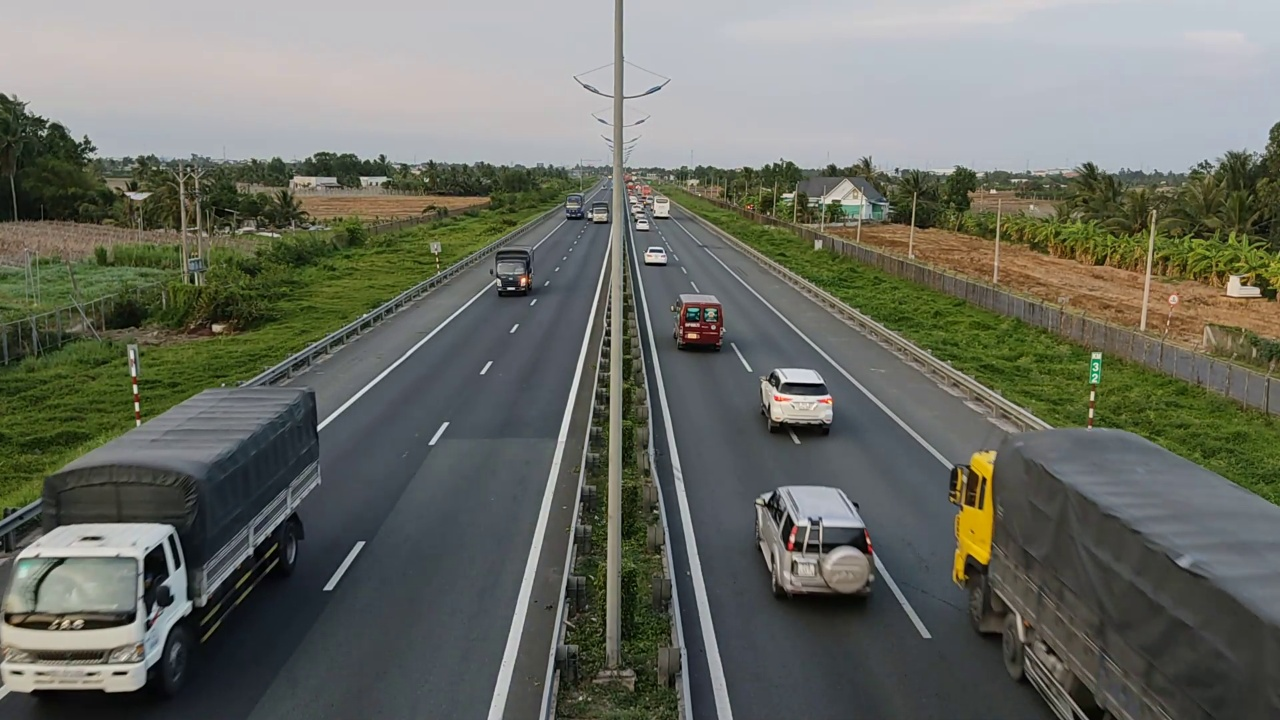car: (759, 366, 833, 431), (643, 245, 667, 266)
truck: (0, 384, 323, 699), (947, 427, 1279, 715), (493, 243, 538, 298)
